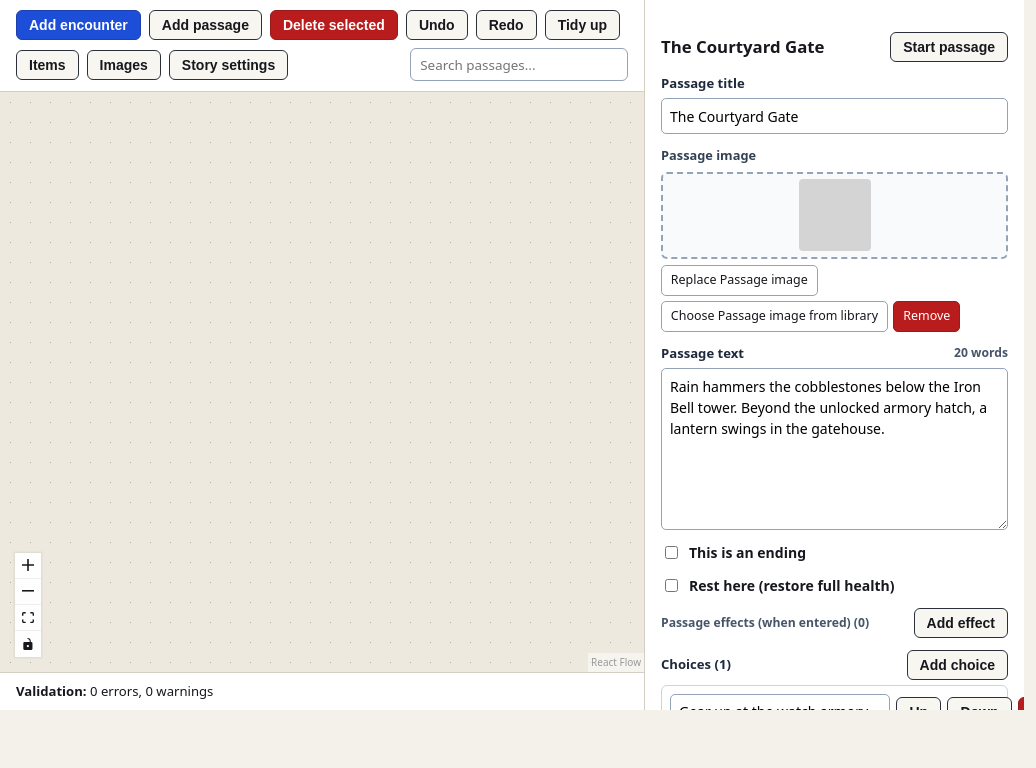
Test: Items tab and item images (#45) › clamps armour buffer to 1..6 and allows deleting unused items
Click the button "Items": (47, 65) [16,50,79,80]
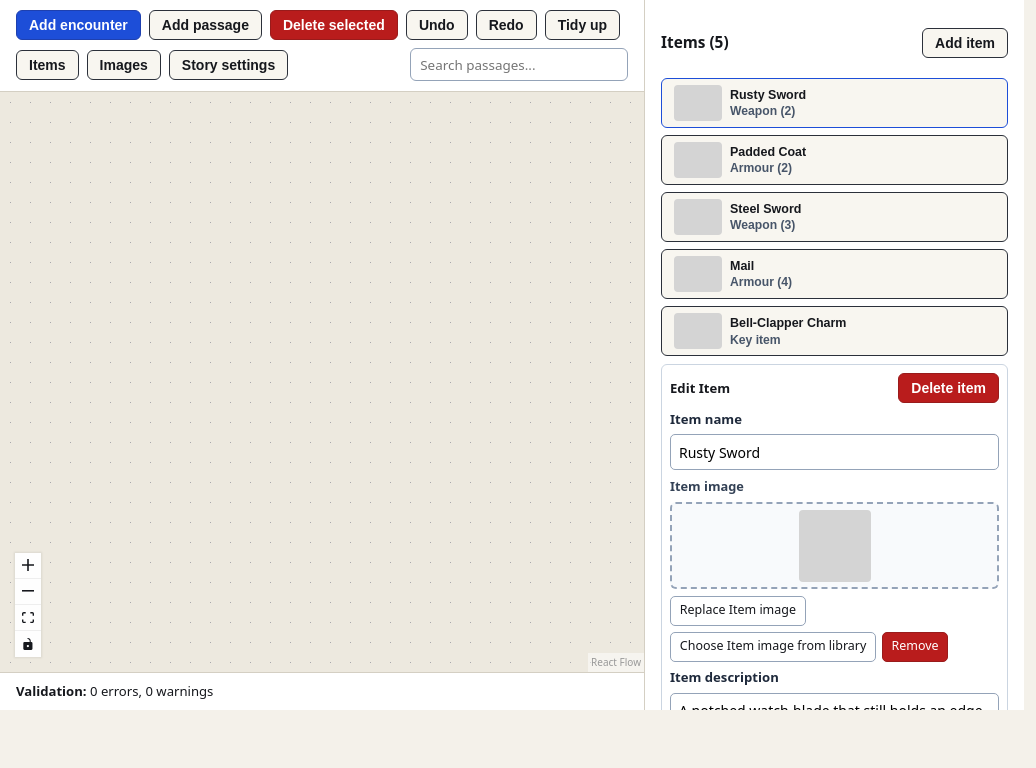
Click the button "Add item": (965, 43) [922,28,1008,58]
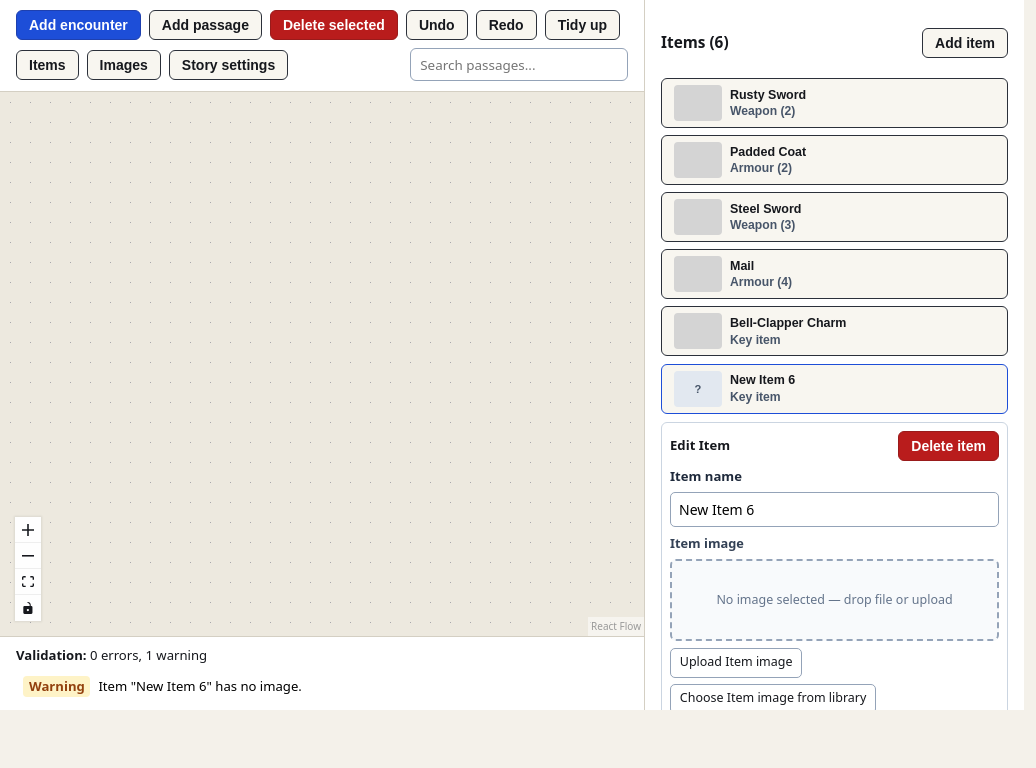
Replace the text in the field labelled "Item name" with "Unused Buckler": (834, 509) [670,492,999,527]
(page scrolled)
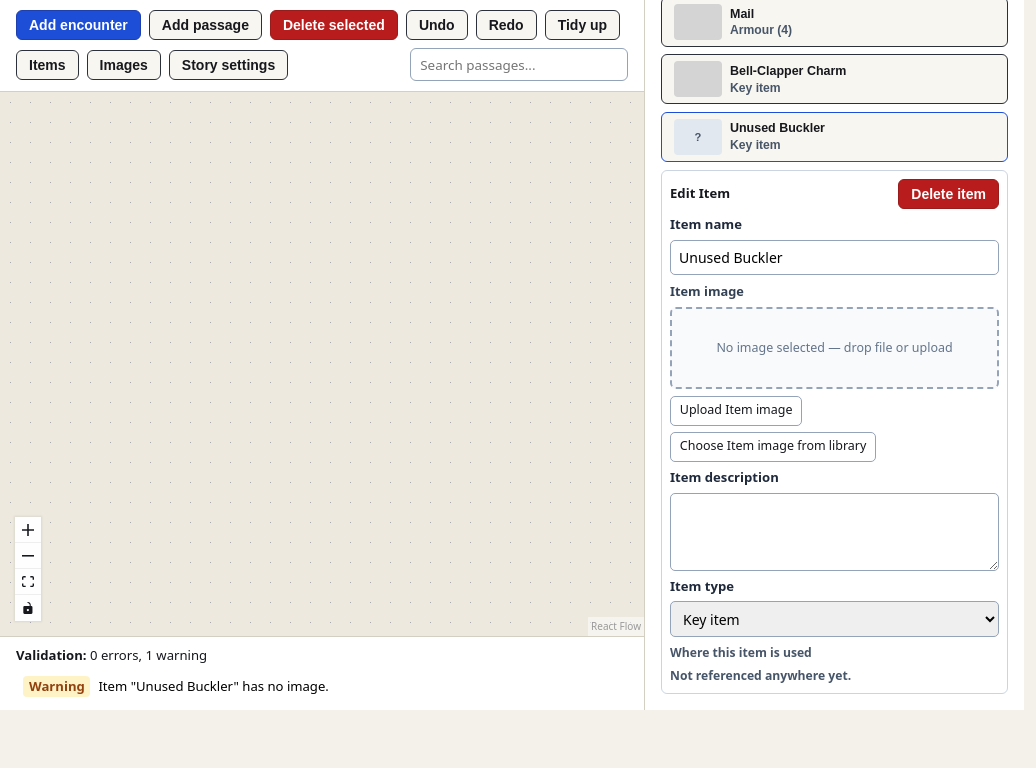
Select "Armour (buffer 1–6)" in the dropdown labelled "Item type": (834, 619) [670,601,999,637]
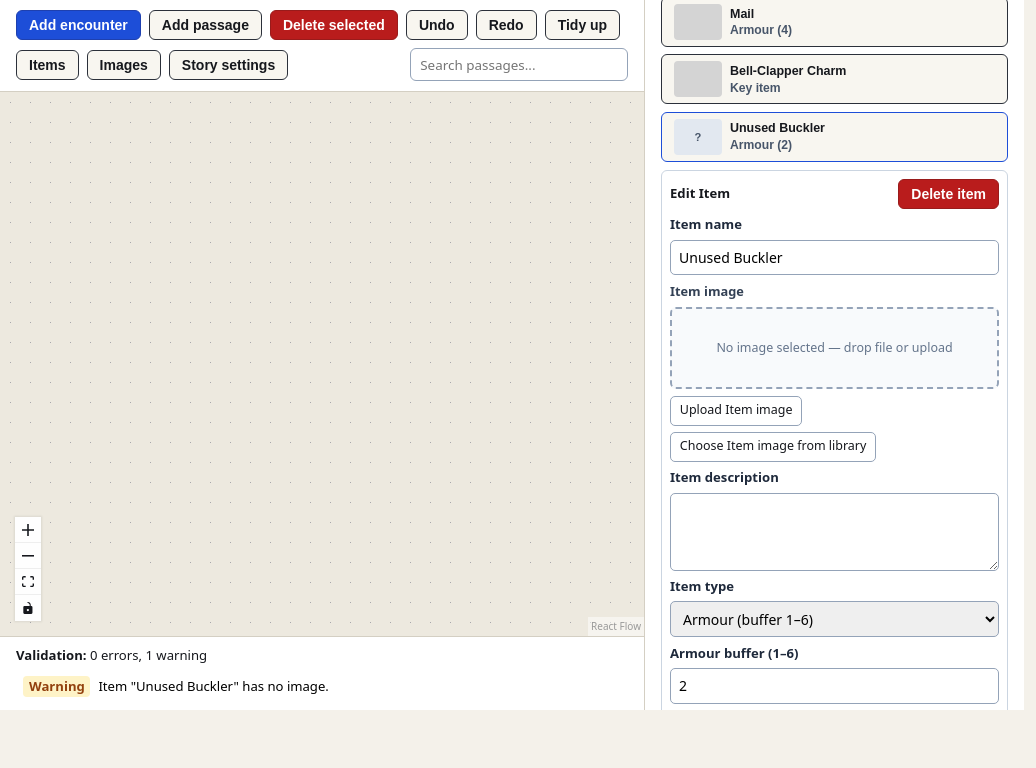
Replace the text in the number field labelled "Armour buffer (1–6)" with "12": (834, 686) [670,668,999,704]
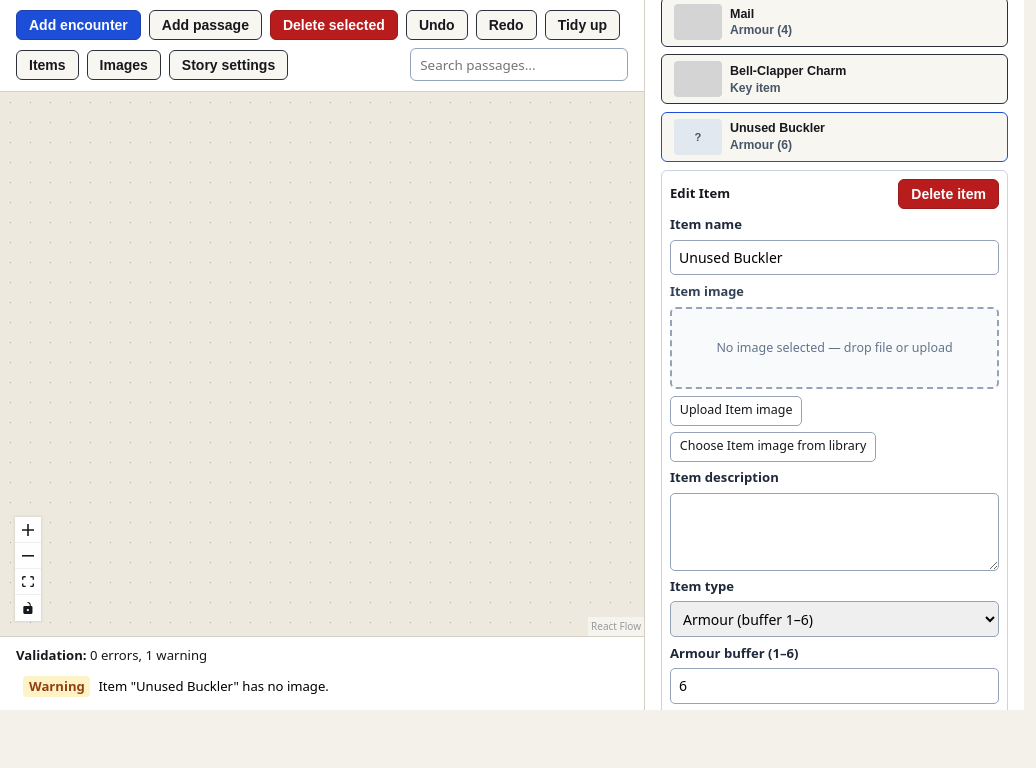
Check: the number field labelled "Armour buffer (1–6)" holds "6", box [670,668,999,704]
Click the button with aria-label "Delete item Unused Buckler": (949, 194) [898,179,999,209]
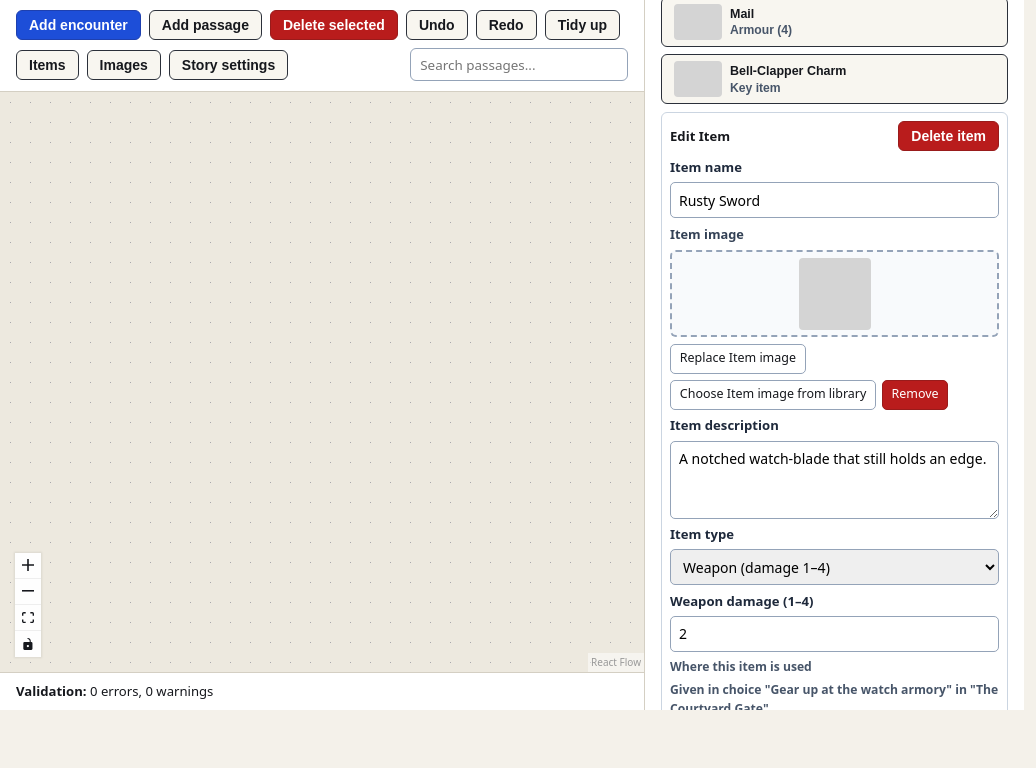
Check: the button "Unused Buckler" is gone
